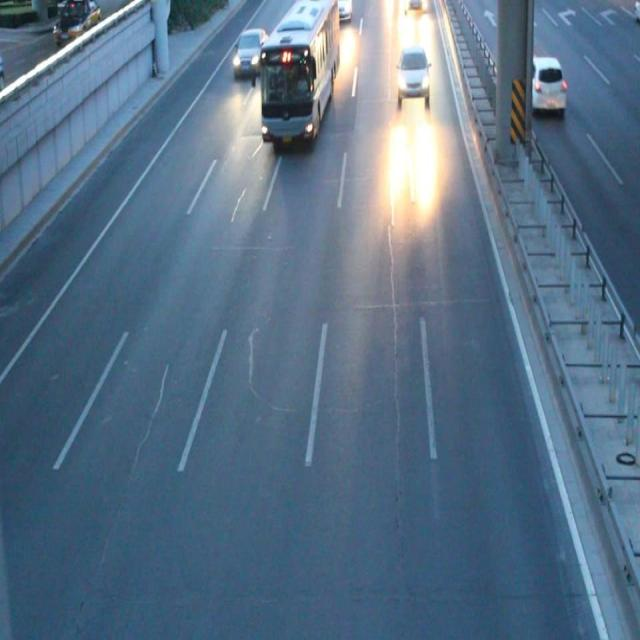car: (524, 57, 564, 111), (396, 51, 430, 98), (232, 29, 264, 72), (329, 1, 352, 22), (404, 1, 420, 13)
van: (262, 1, 338, 141)
